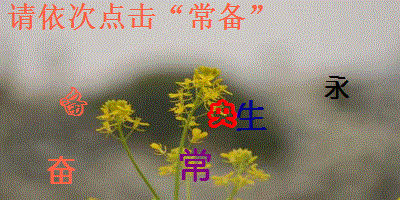result: (186, 1, 248, 32)
text: (177, 145, 214, 185), (234, 99, 270, 135), (42, 152, 79, 187), (206, 96, 238, 130), (57, 85, 89, 117), (321, 72, 353, 102)
